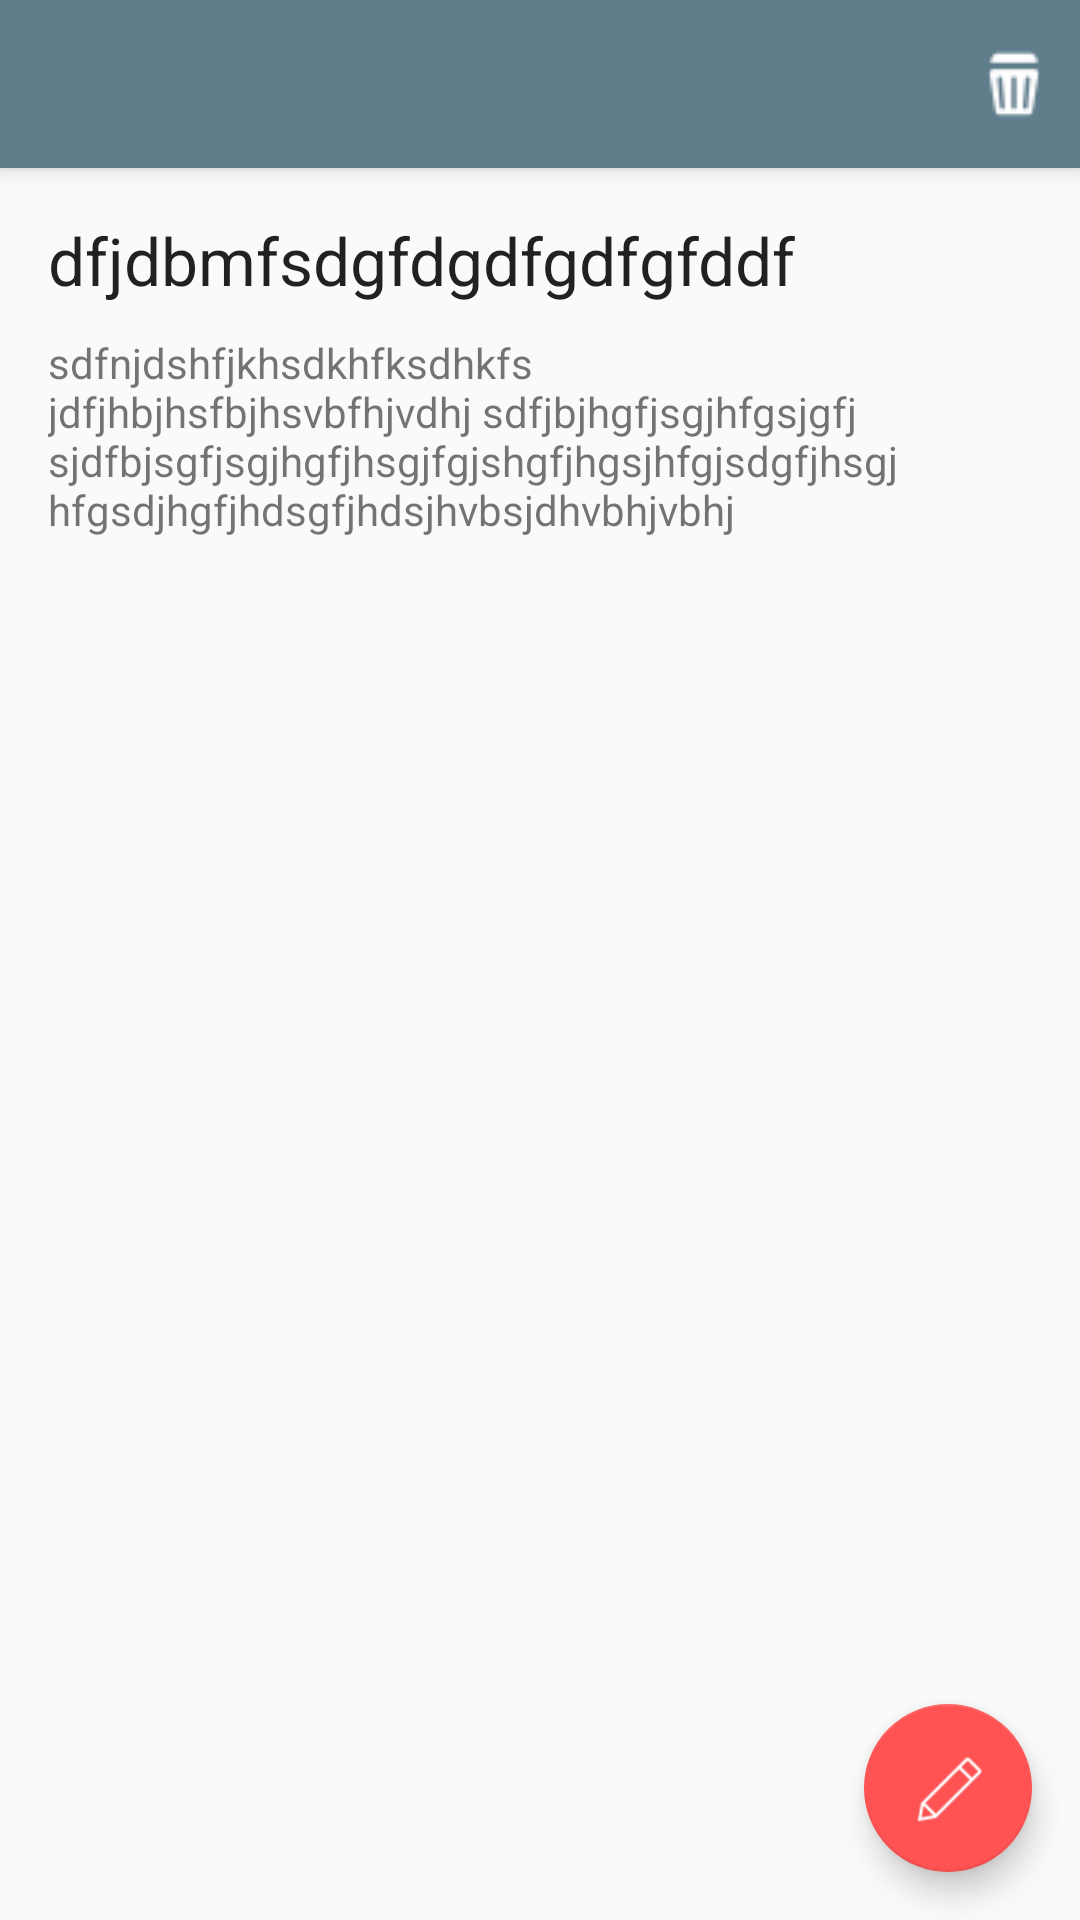

Icons on this 1080*1920 Android screen, each with its box as (x1, y1, x2, y2):
delete: (989, 51, 1039, 116)
edit: (864, 1704, 1032, 1872)
